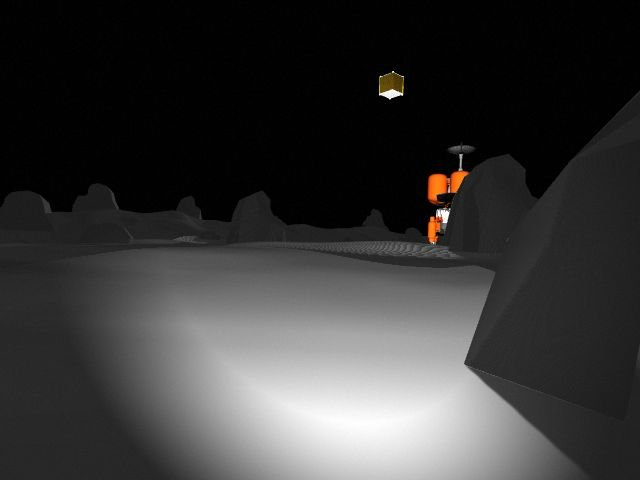cubesat: (370, 64, 412, 103)
